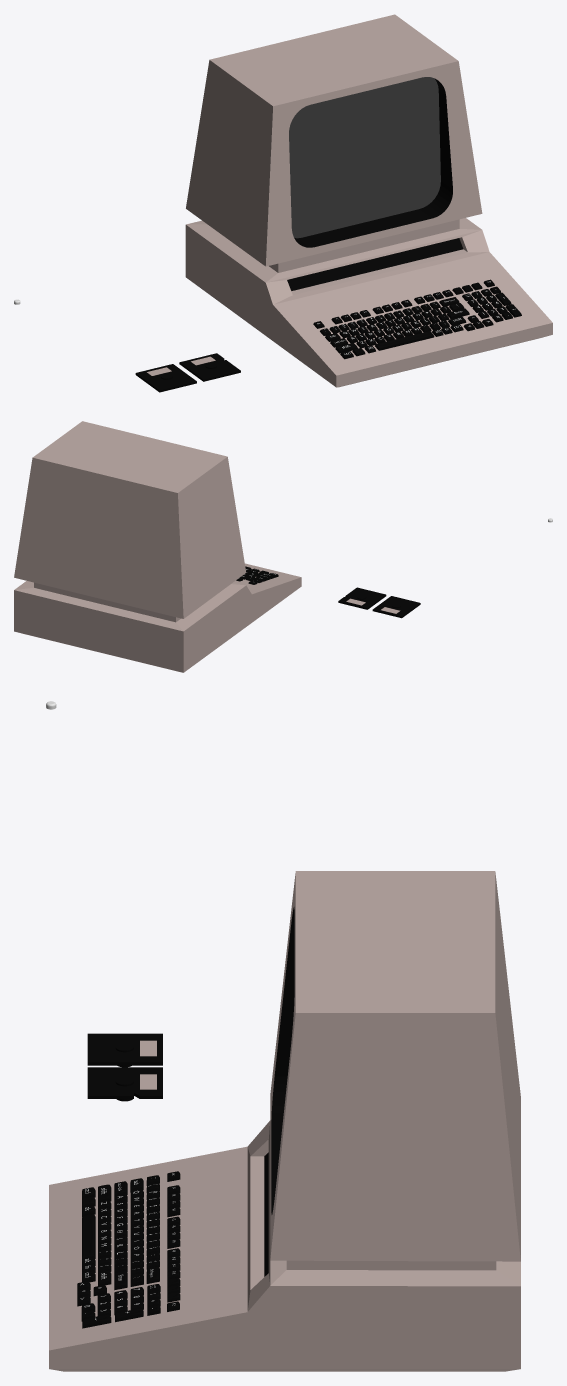
Rendered from Old computer.fbx.
The picture shows the model from 3 angles, top to bottom: view 1: azimuth 30°, elevation 25°; view 2: azimuth 150°, elevation 25°; view 3: azimuth 270°, elevation 25°; orthographic projection. The views are drawn at different scales.
Parts seen in each view (by area): view 1: Cube.100, Cube.101, Cube.102; view 2: Cube.100, Cube.101, Cube.102; view 3: Cube.100, Cube.102, Cube.101.
Boxes of the visible parts, x1=… form: Cube.100: x1=185, y1=14, x2=552, y2=387; Cube.101: x1=179, y1=353, x2=240, y2=381; Cube.102: x1=135, y1=364, x2=196, y2=392; Cube.100: x1=14, y1=421, x2=301, y2=672; Cube.101: x1=338, y1=587, x2=386, y2=609; Cube.102: x1=372, y1=596, x2=420, y2=618; Cube.100: x1=49, y1=871, x2=520, y2=1371; Cube.102: x1=87, y1=1033, x2=162, y2=1065; Cube.101: x1=87, y1=1067, x2=162, y2=1098.
Bounding box in the file's own units: 7335 × 2930 × 3579.
